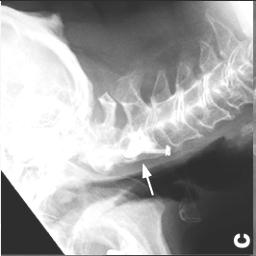cancer: (114, 131, 150, 164)
